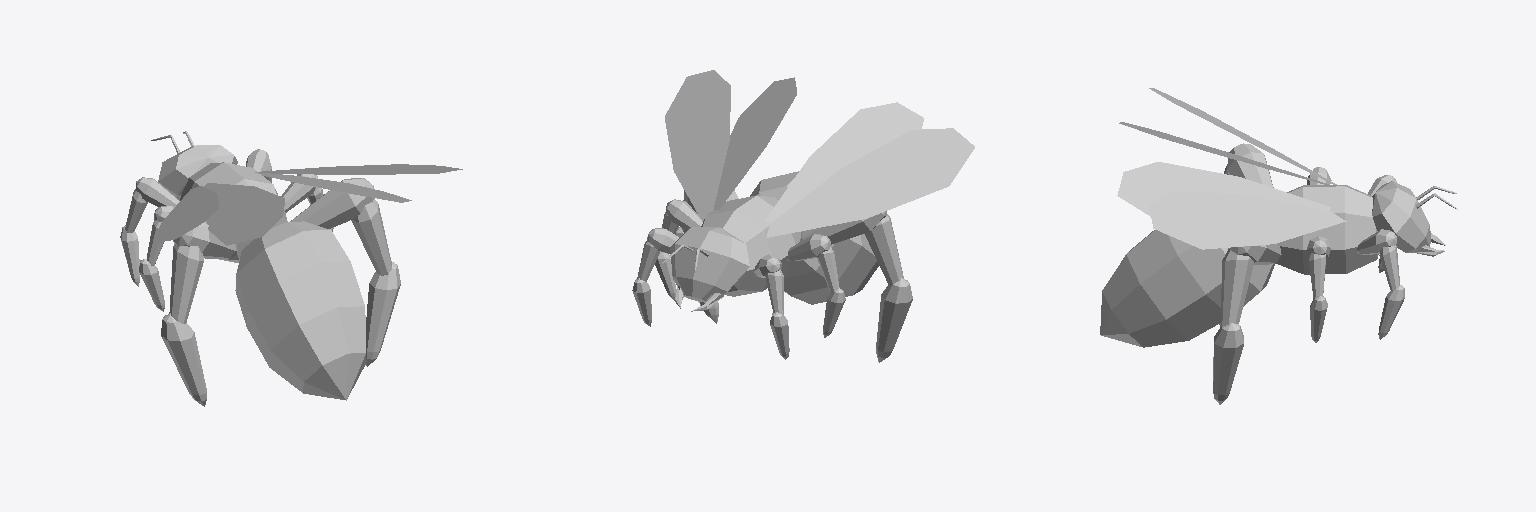
File: giant_bee.obj
3 views of the same model, side by side, from view 1: azimuth 30°, elevation 25°; view 2: azimuth 150°, elevation 25°; view 3: azimuth 270°, elevation 25° (orthographic).
Parts seen in each view (by area): view 1: Tail, RightRearLeg, LeftRearLeg, LeftRearWing, LeftFrontLeg, Head, LeftFrontWing, Body, RightFrontWing, LeftMiddleLeg, RightRearWing, RightMiddleLeg; view 2: LeftFrontWing, RightFrontWing, LeftRearWing, Head, LeftRearLeg, Tail, Body, RightRearWing, LeftMiddleLeg, LeftFrontLeg, RightFrontLeg, RightMiddleLeg; view 3: Tail, RightFrontWing, Body, RightRearWing, RightRearLeg, Head, RightFrontLeg, RightMiddleLeg, LeftRearLeg, LeftFrontWing, LeftRearWing.
Boxes of the visible parts, box(x1,y1,x2,y2) form: Tail: box(235, 221, 365, 400); RightRearLeg: box(290, 178, 400, 366); LeftRearLeg: box(161, 221, 237, 406); LeftRearWing: box(204, 183, 284, 245); LeftFrontLeg: box(120, 177, 179, 286); Head: box(158, 145, 237, 200); LeftFrontWing: box(153, 186, 218, 242); Body: box(180, 162, 287, 262); RightFrontWing: box(260, 164, 462, 174); LeftMiddleLeg: box(139, 206, 173, 311); RightRearWing: box(255, 172, 411, 202); RightMiddleLeg: box(281, 174, 333, 231); LeftFrontWing: box(766, 128, 974, 237); RightFrontWing: box(665, 70, 730, 221); LeftRearWing: box(765, 102, 923, 222); Head: box(670, 227, 749, 311); LeftRearLeg: box(799, 211, 912, 362); Tail: box(750, 171, 878, 304); Body: box(701, 195, 800, 296); RightRearWing: box(714, 77, 796, 209); LeftMiddleLeg: box(787, 234, 845, 337); LeftFrontLeg: box(754, 254, 789, 359); RightFrontLeg: box(632, 228, 678, 326); RightMiddleLeg: box(655, 199, 702, 300); Tail: box(1100, 230, 1275, 347); RightFrontWing: box(1149, 191, 1346, 249); Body: box(1276, 185, 1378, 274); RightRearWing: box(1117, 162, 1330, 216); RightRearLeg: box(1213, 244, 1281, 404); Head: box(1372, 181, 1445, 256); RightFrontLeg: box(1357, 229, 1404, 339); RightMiddleLeg: box(1307, 236, 1330, 342); LeftRearLeg: box(1219, 143, 1273, 324); LeftFrontWing: box(1149, 88, 1336, 184); LeftRearWing: box(1119, 122, 1328, 184).
Size of the model in its own units: 1.24 by 0.9017 by 1.34.